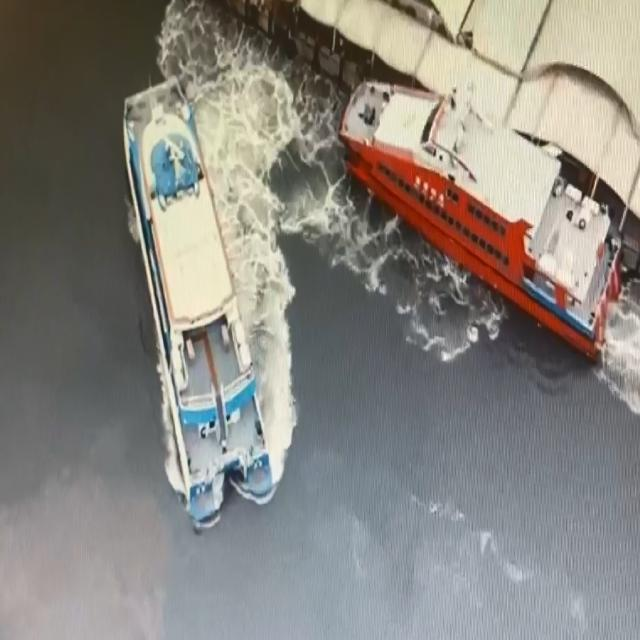passenger ship: (336, 77, 622, 364), (122, 76, 274, 533)
